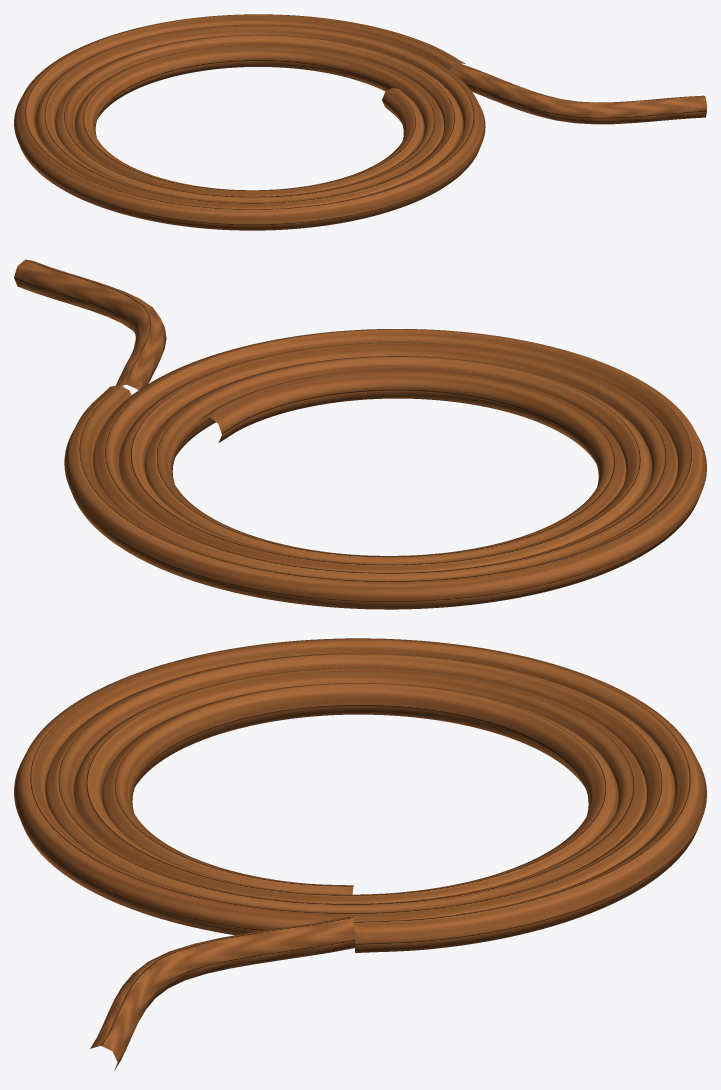
The model's file is paranormal-investigation-house-rope-coil-960c3170__26887.glb.
3 views of the same model, one above another, from view 1: azimuth 30°, elevation 25°; view 2: azimuth 150°, elevation 25°; view 3: azimuth 270°, elevation 25° (orthographic). The views are drawn at different scales.
Parts seen in each view (by area): view 1: rope-coil; view 2: rope-coil; view 3: rope-coil.
Part boxes in pixels (left/top/right/bottom): rope-coil: left=14, top=14, right=706, bottom=230; rope-coil: left=14, top=259, right=706, bottom=609; rope-coil: left=14, top=638, right=706, bottom=1071.
Size of the model in its own units: 0.4578 by 0.023 by 0.3305.
Materials: 1 (1 with a texture image).
